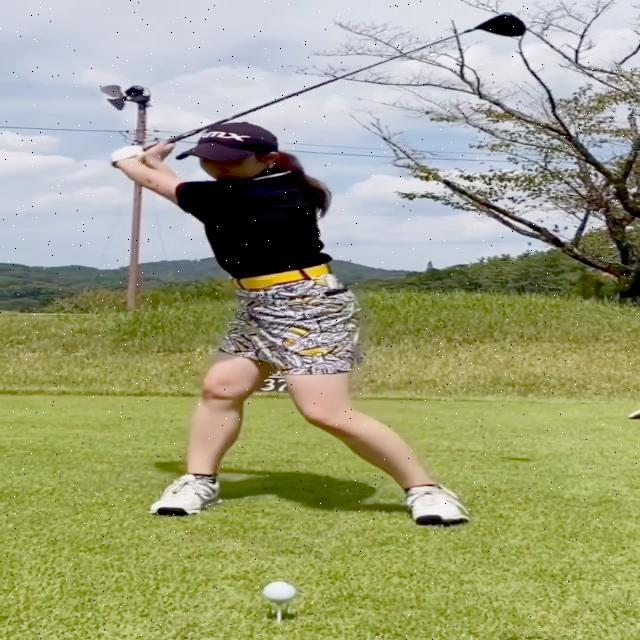ClubHandle: (111, 12, 527, 168)
ClubHead: (478, 12, 527, 37)
GolfBall: (263, 582, 296, 602)
